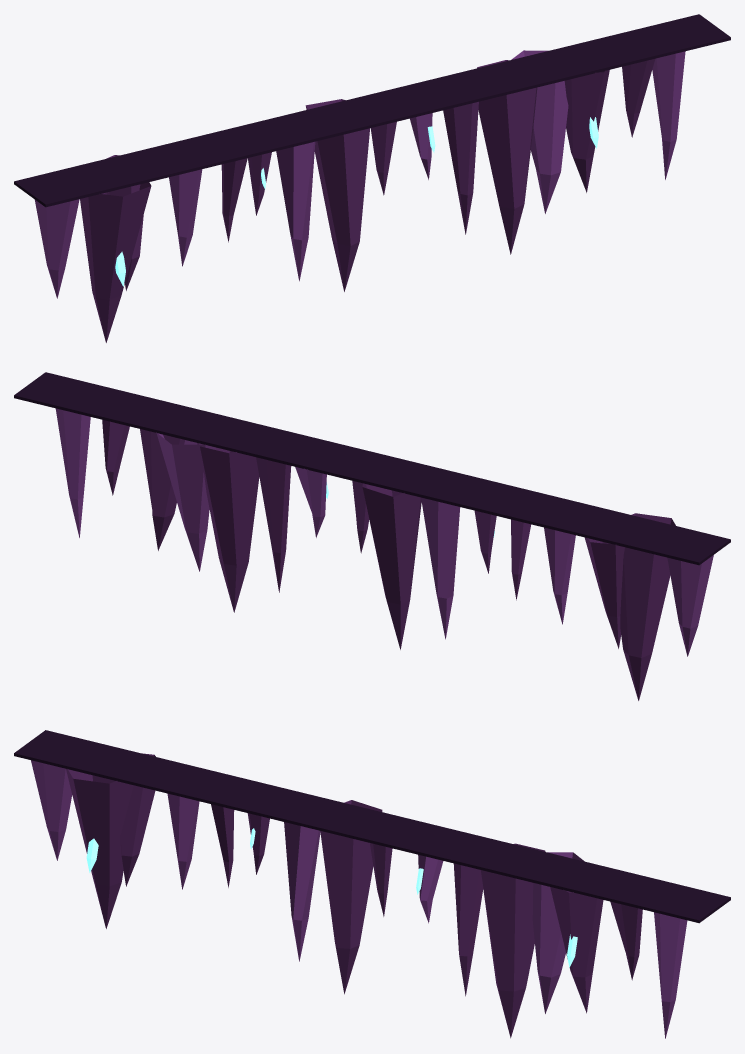
The model's file is W4_Far_Stalactites.fbx.
The picture shows the model from 3 angles, top to bottom: view 1: azimuth 30°, elevation 25°; view 2: azimuth 150°, elevation 25°; view 3: azimuth 330°, elevation 25°; orthographic projection.
Visible parts, largest first — view 1: W4_Far_Stalactites; view 2: W4_Far_Stalactites; view 3: W4_Far_Stalactites.
Boxes of the visible parts, box(x1,y1,x2,y2) form: W4_Far_Stalactites: box(14, 14, 730, 342); W4_Far_Stalactites: box(14, 372, 730, 700); W4_Far_Stalactites: box(14, 730, 730, 1038).
Bounding box in the file's own units: 500 × 125 × 62.81.
